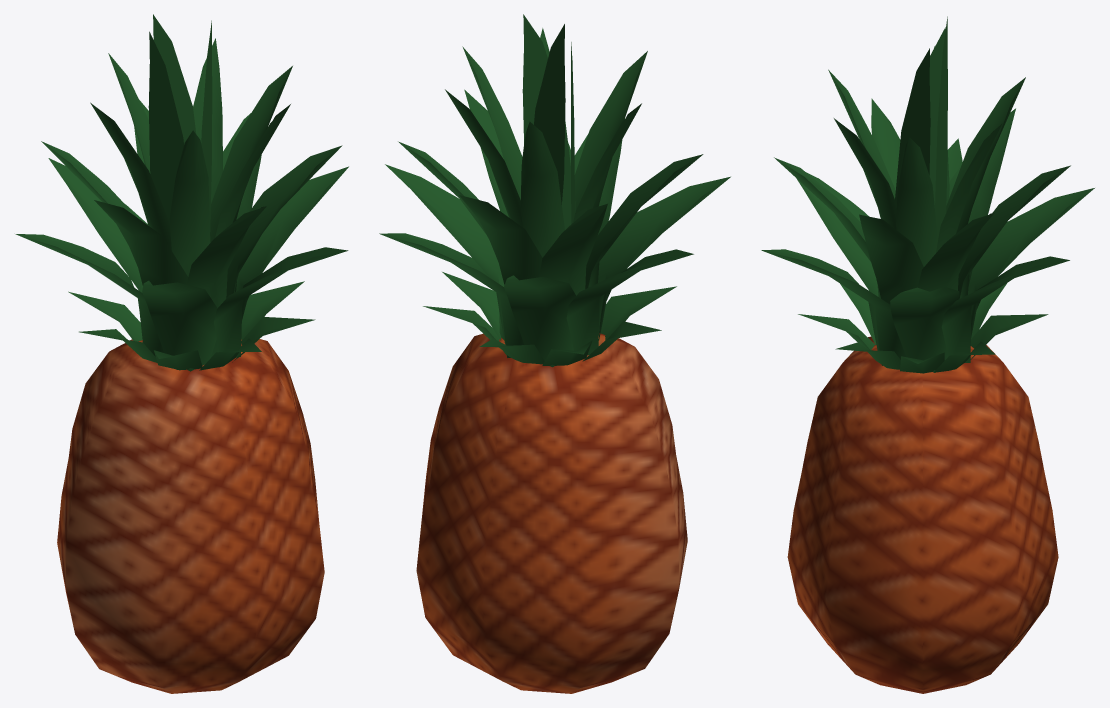
File: pineapple.glb
The picture shows the model from 3 angles, left to right: view 1: azimuth 30°, elevation 25°; view 2: azimuth 150°, elevation 25°; view 3: azimuth 270°, elevation 25°; orthographic projection. The views are drawn at different scales.
Visible parts, largest first — view 1: pineapple.001; view 2: pineapple.001; view 3: pineapple.001.
Part boxes in pixels (x1,y1,x2,y2): pineapple.001: (15,14,348,693); pineapple.001: (379,14,730,693); pineapple.001: (761,16,1094,693).
Bounding box in the file's own units: 0.5051 × 0.9879 × 0.4656.
Materials: 1 (1 with a texture image).
